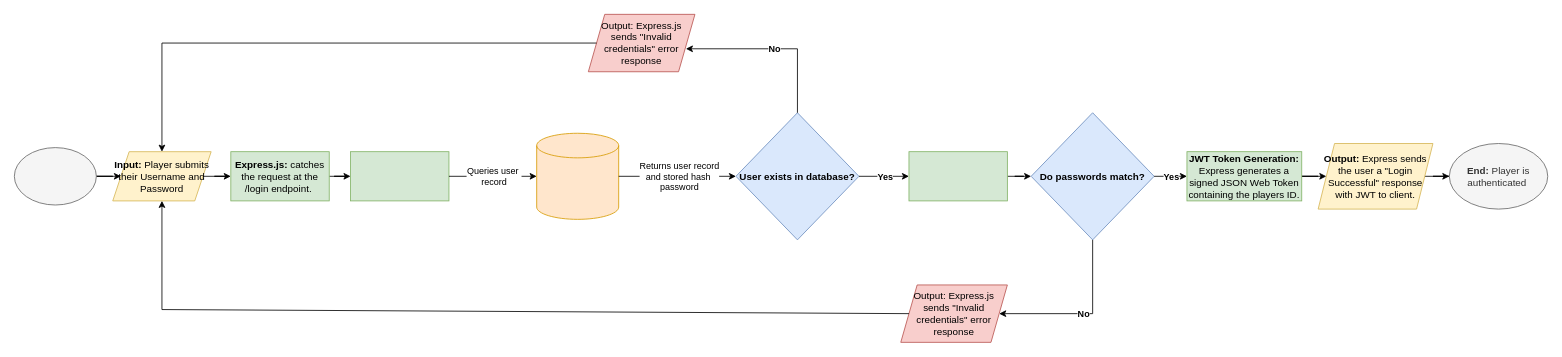
Some shapes in this 1562 by 357 pixel diagram are drawn without their labels. Each missing label, with the box of its shape:
Bcrypt: compares the plain text password with the retrieved hash.: (908, 151, 1007, 201)
Database: (536, 132, 619, 219)
Player login UI: (14, 147, 96, 205)
Prisma: prepares and translates a SQL SELECT query to find the user.: (350, 151, 449, 201)
